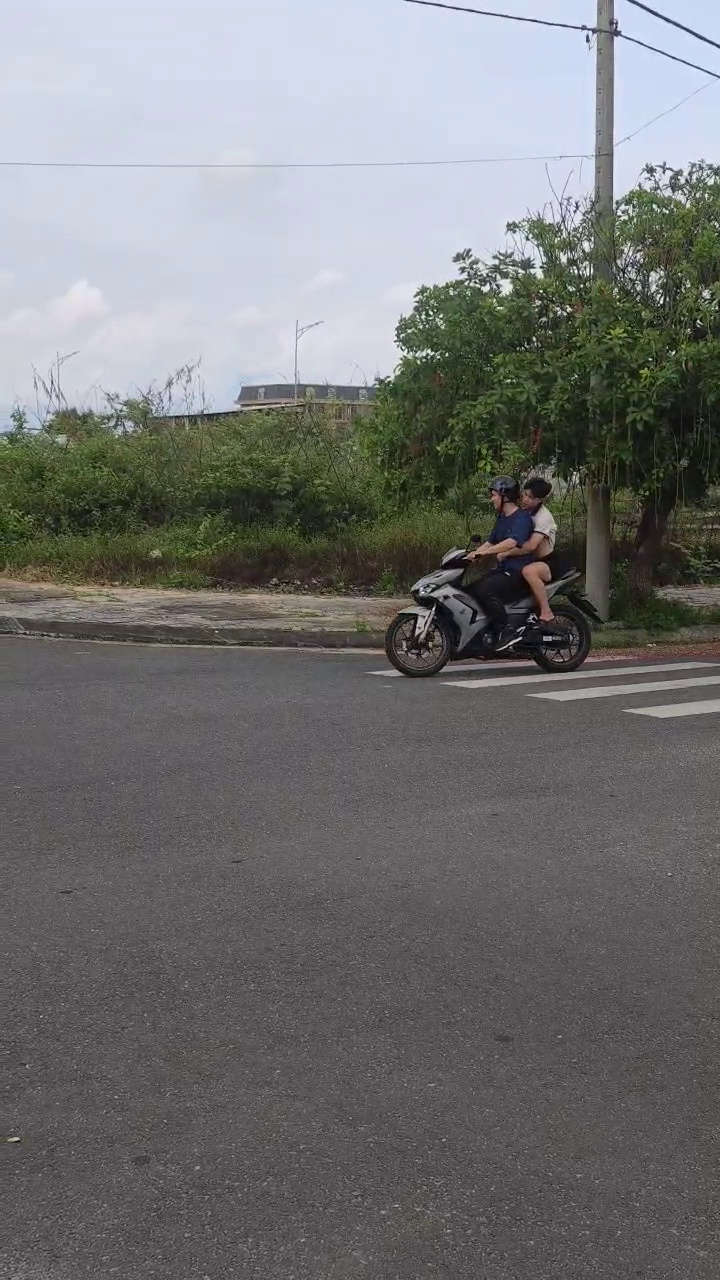helmet: (491, 475, 518, 519)
no_helmet: (522, 476, 551, 519)
